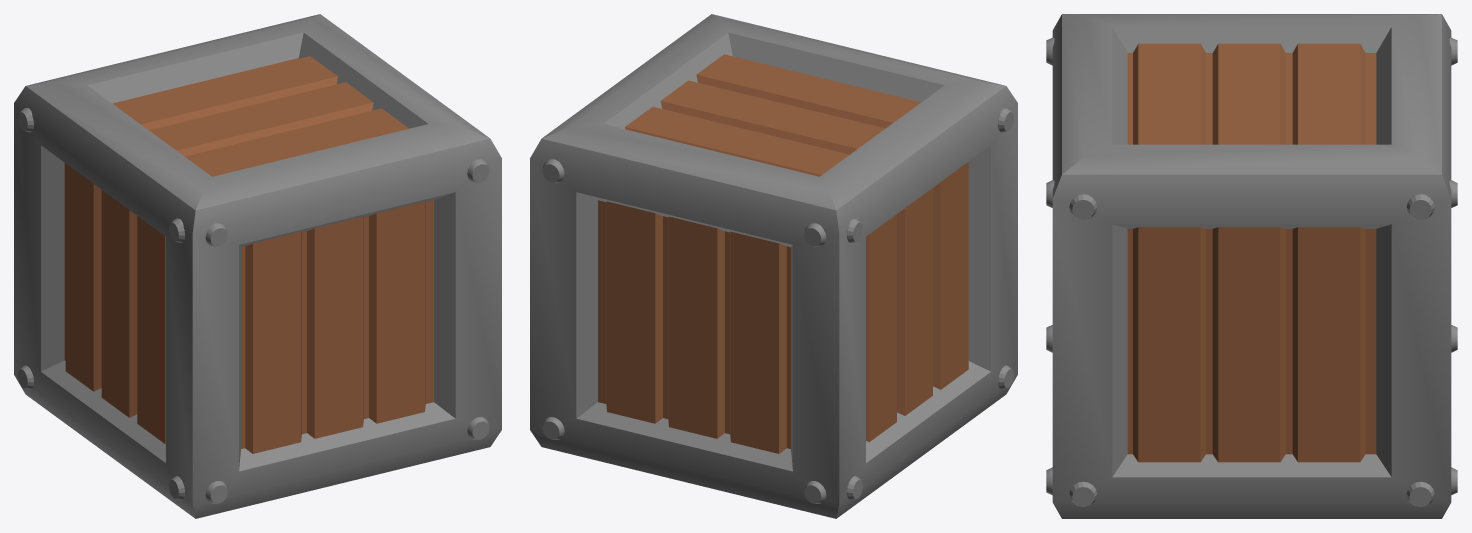
Rendered from Wooden_Box.glb.
3 views of the same model, side by side, from view 1: azimuth 30°, elevation 25°; view 2: azimuth 150°, elevation 25°; view 3: azimuth 270°, elevation 25° (orthographic). The views are drawn at different scales.
Parts seen in each view (by area): view 1: Wooden_Box; view 2: Wooden_Box; view 3: Wooden_Box.
Boxes of the visible parts, box(x1,y1,x2,y2) form: Wooden_Box: box(14, 14, 501, 518); Wooden_Box: box(530, 14, 1017, 518); Wooden_Box: box(1046, 14, 1457, 518).
Size of the model in its own units: 2.06 by 2 by 2.06.
